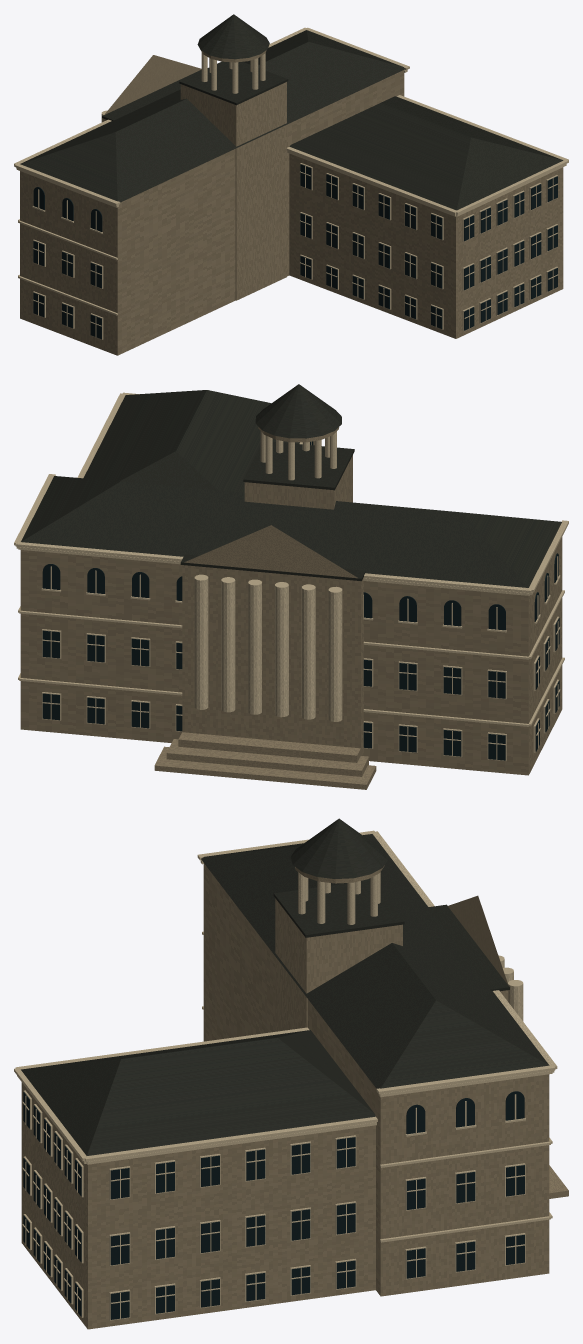
The picture shows the model from 3 angles, top to bottom: view 1: azimuth 30°, elevation 25°; view 2: azimuth 150°, elevation 25°; view 3: azimuth 270°, elevation 25°; orthographic projection. The views are drawn at different scales.
Visible parts, largest first — view 1: oude-raadhuis-0, oude-raadhuis-1, oude-raadhuis-2, oude-raadhuis-3; view 2: oude-raadhuis-0, oude-raadhuis-1, oude-raadhuis-2, oude-raadhuis-3; view 3: oude-raadhuis-0, oude-raadhuis-1, oude-raadhuis-2, oude-raadhuis-3.
Boxes of the visible parts, x1,y1,x2,y2 form: oude-raadhuis-0: [20, 49, 563, 355]; oude-raadhuis-1: [20, 14, 563, 210]; oude-raadhuis-2: [14, 27, 568, 339]; oude-raadhuis-3: [33, 164, 557, 339]; oude-raadhuis-0: [20, 427, 562, 789]; oude-raadhuis-1: [21, 384, 561, 587]; oude-raadhuis-2: [14, 392, 568, 761]; oude-raadhuis-3: [42, 441, 559, 760]; oude-raadhuis-0: [21, 863, 568, 1329]; oude-raadhuis-1: [21, 818, 549, 1155]; oude-raadhuis-2: [14, 830, 557, 1320]; oude-raadhuis-3: [23, 1091, 524, 1319].
Bounding box in the file's own units: 54.97 × 31 × 43.82.
Materials: 5 (5 with a texture image).
